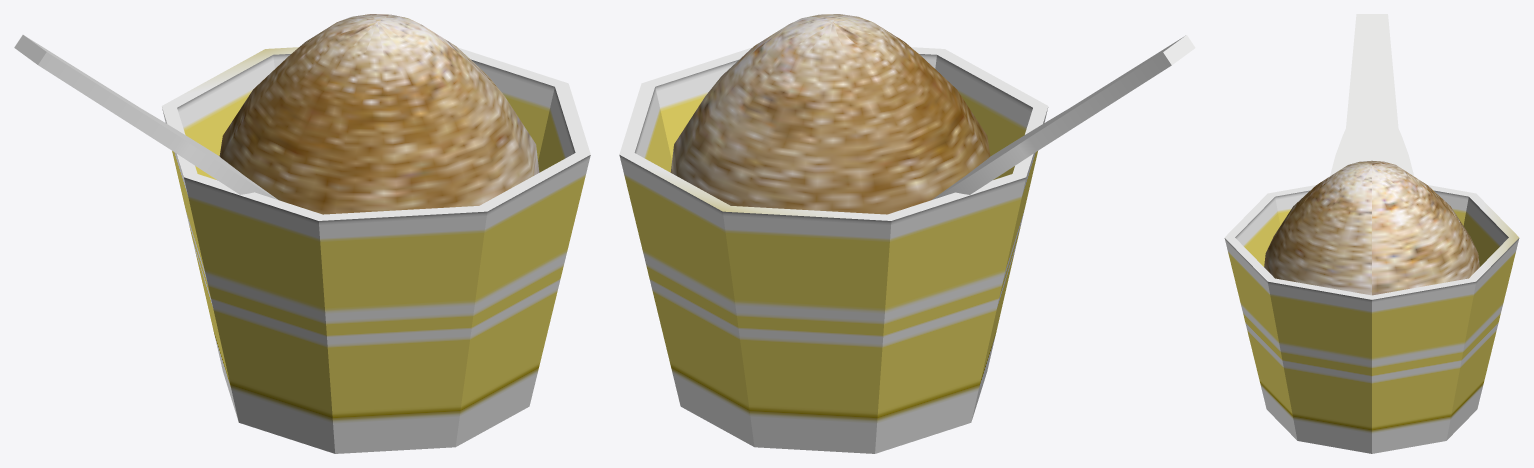
The model's file is IceCream_CupG.fbx.
The picture shows the model from 3 angles, left to right: view 1: azimuth 30°, elevation 25°; view 2: azimuth 150°, elevation 25°; view 3: azimuth 270°, elevation 25°; orthographic projection. The views are drawn at different scales.
Parts seen in each view (by area): view 1: IceCupG, IceCream_CupG, IceCreamSpoonG; view 2: IceCupG, IceCream_CupG, IceCreamSpoonG; view 3: IceCupG, IceCream_CupG, IceCreamSpoonG.
Part boxes in pixels (x1=…): IceCupG: x1=161, y1=47, x2=590, y2=453; IceCream_CupG: x1=219, y1=14, x2=539, y2=214; IceCreamSpoonG: x1=14, y1=35, x2=277, y2=199; IceCupG: x1=619, y1=47, x2=1048, y2=453; IceCream_CupG: x1=670, y1=14, x2=990, y2=214; IceCreamSpoonG: x1=932, y1=35, x2=1195, y2=199; IceCupG: x1=1224, y1=185, x2=1519, y2=453; IceCream_CupG: x1=1264, y1=160, x2=1479, y2=295; IceCreamSpoonG: x1=1330, y1=14, x2=1414, y2=176.
Size of the model in its own units: 163 by 123 by 115.
